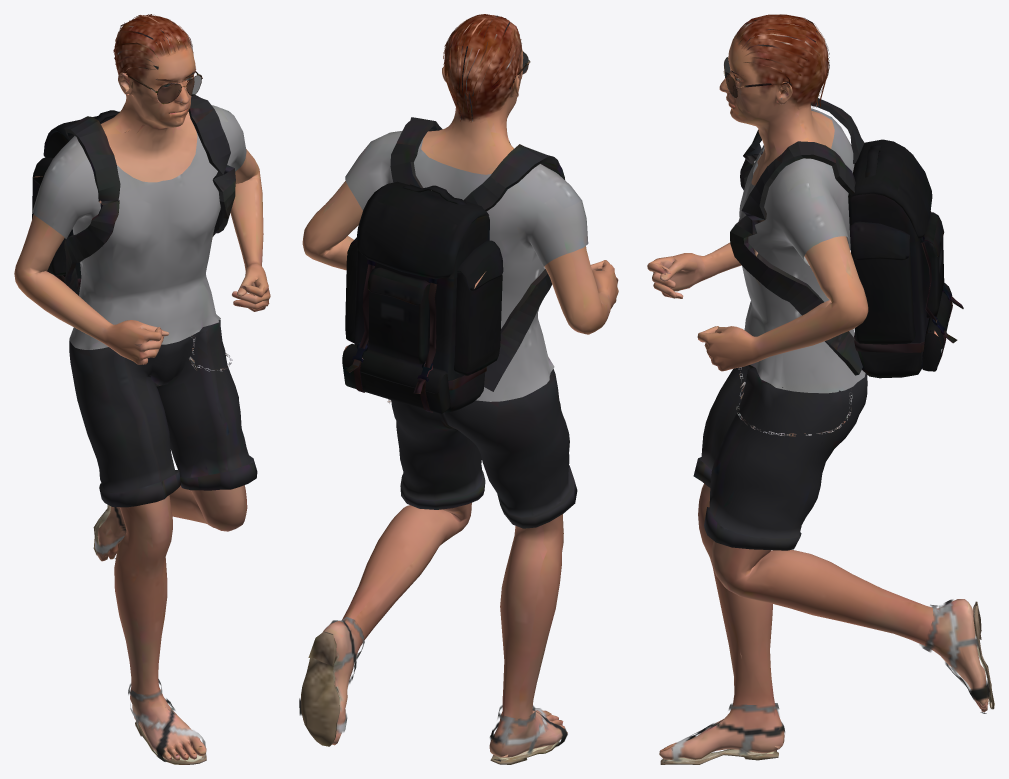
3 views of the same model, side by side, from view 1: azimuth 30°, elevation 25°; view 2: azimuth 150°, elevation 25°; view 3: azimuth 270°, elevation 25° (orthographic). The views are drawn at different scales.
Visible parts, largest first — view 1: p01671; view 2: p01671; view 3: p01671.
Part boxes in pixels (bbox=[...]): p01671: bbox=[14, 14, 270, 764]; p01671: bbox=[299, 14, 618, 764]; p01671: bbox=[647, 14, 994, 764].
Bounding box in the file's own units: 0.6635 × 1.72 × 0.7184.
Materials: 1 (1 with a texture image).
